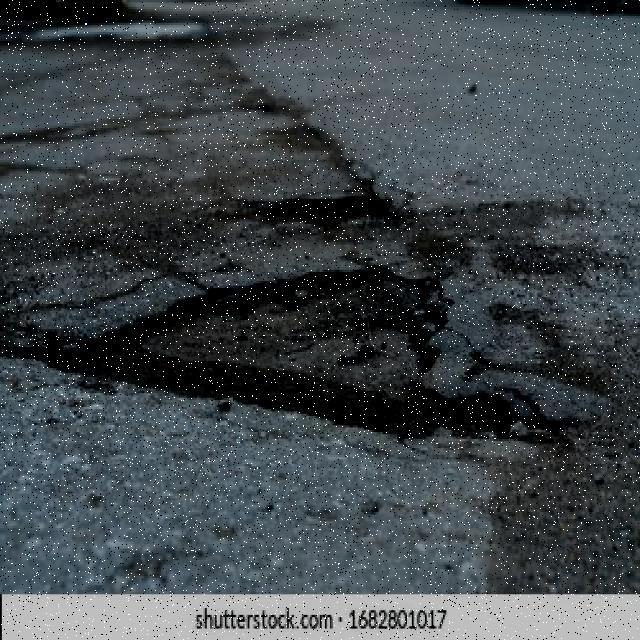Pothole: (39, 263, 552, 448)
